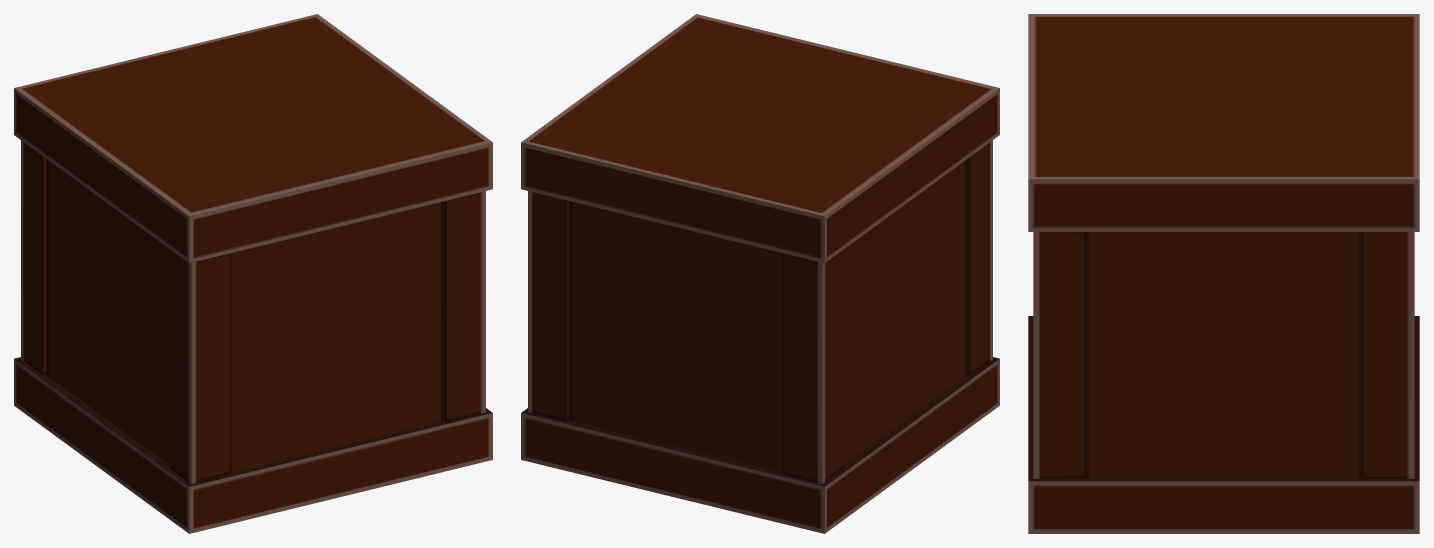
The model's file is SimpleCrate.fbx.
3 renders of one model, left to right at view 1: azimuth 30°, elevation 25°; view 2: azimuth 150°, elevation 25°; view 3: azimuth 270°, elevation 25°, orthographic. The views are drawn at different scales.
Parts seen in each view (by area): view 1: SimpleCrate; view 2: SimpleCrate; view 3: SimpleCrate.
Boxes of the visible parts, box(x1,y1,x2,y2) form: SimpleCrate: box(14, 14, 492, 533); SimpleCrate: box(521, 14, 999, 533); SimpleCrate: box(1028, 14, 1419, 533).
Bounding box in the file's own units: 100 × 100 × 100.
